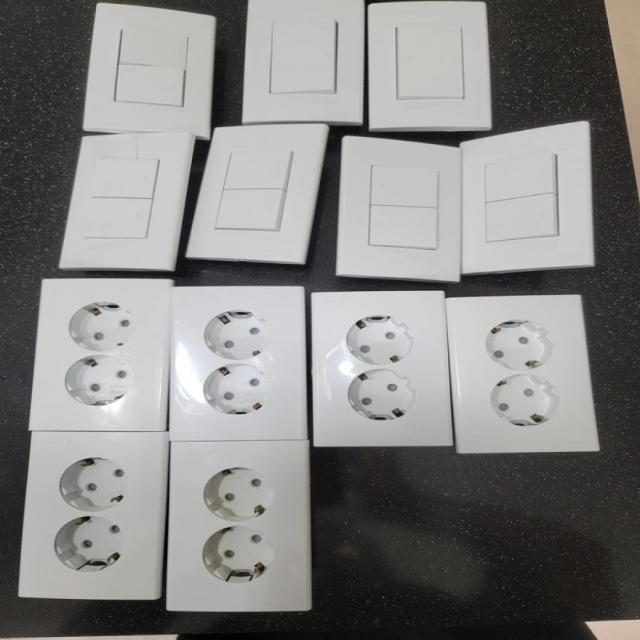typeb: (157, 433, 331, 619), (448, 292, 628, 466), (23, 424, 169, 606), (171, 274, 308, 444), (28, 275, 174, 433), (312, 291, 453, 448)
